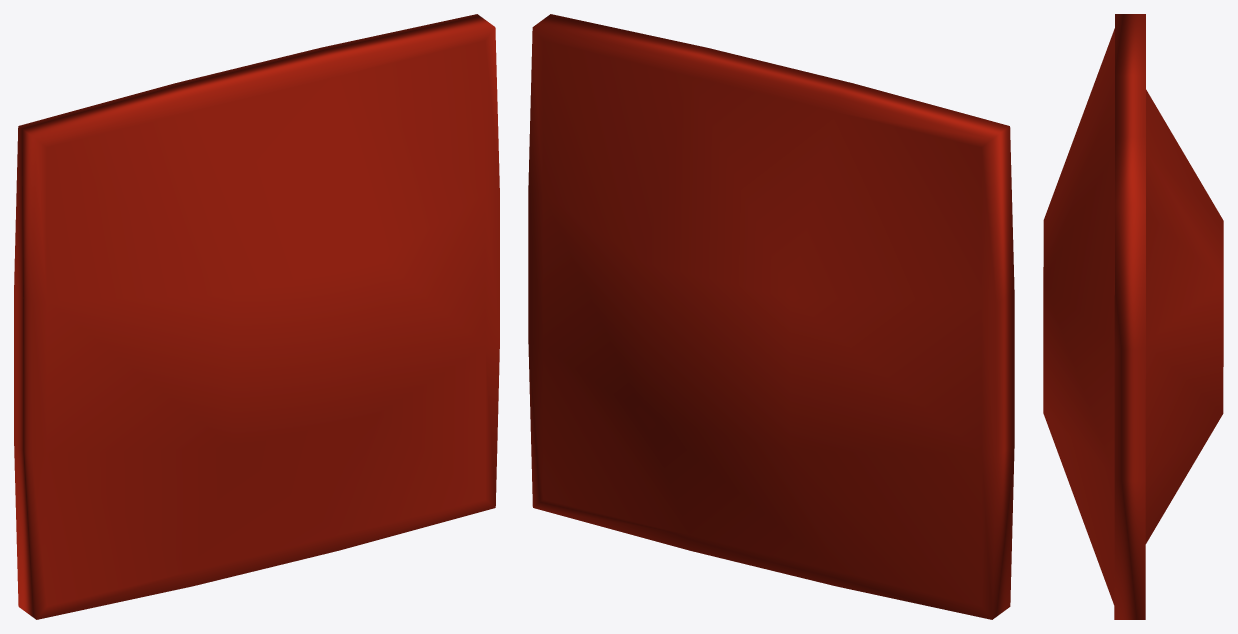
The model's file is oreillerRouge.fbx.
3 views of the same model, side by side, from view 1: azimuth 30°, elevation 25°; view 2: azimuth 150°, elevation 25°; view 3: azimuth 270°, elevation 25° (orthographic). The views are drawn at different scales.
Visible parts, largest first — view 1: Cube.004; view 2: Cube.004; view 3: Cube.004.
Boxes of the visible parts, x1,y1,x2,y2 form: Cube.004: (14,14,499,619); Cube.004: (528,14,1014,619); Cube.004: (1043,14,1223,619).
Size of the model in its own units: 149 by 149 by 57.96.
